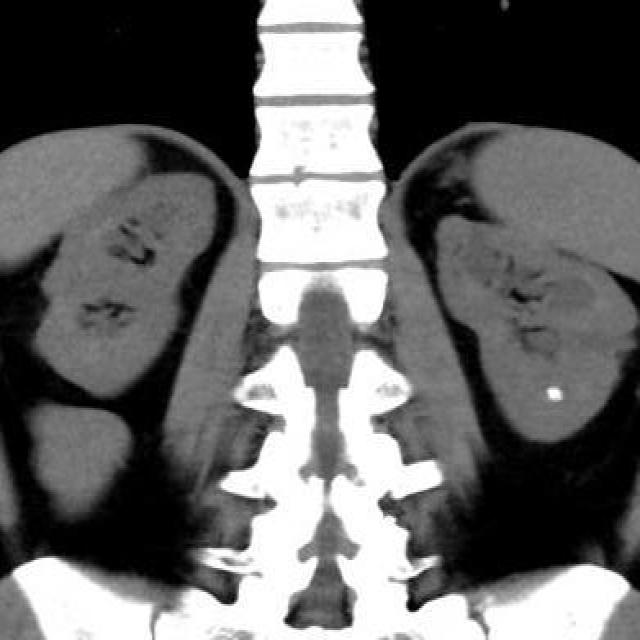Tas_Var: (547, 387, 563, 399), (555, 396, 563, 404)
